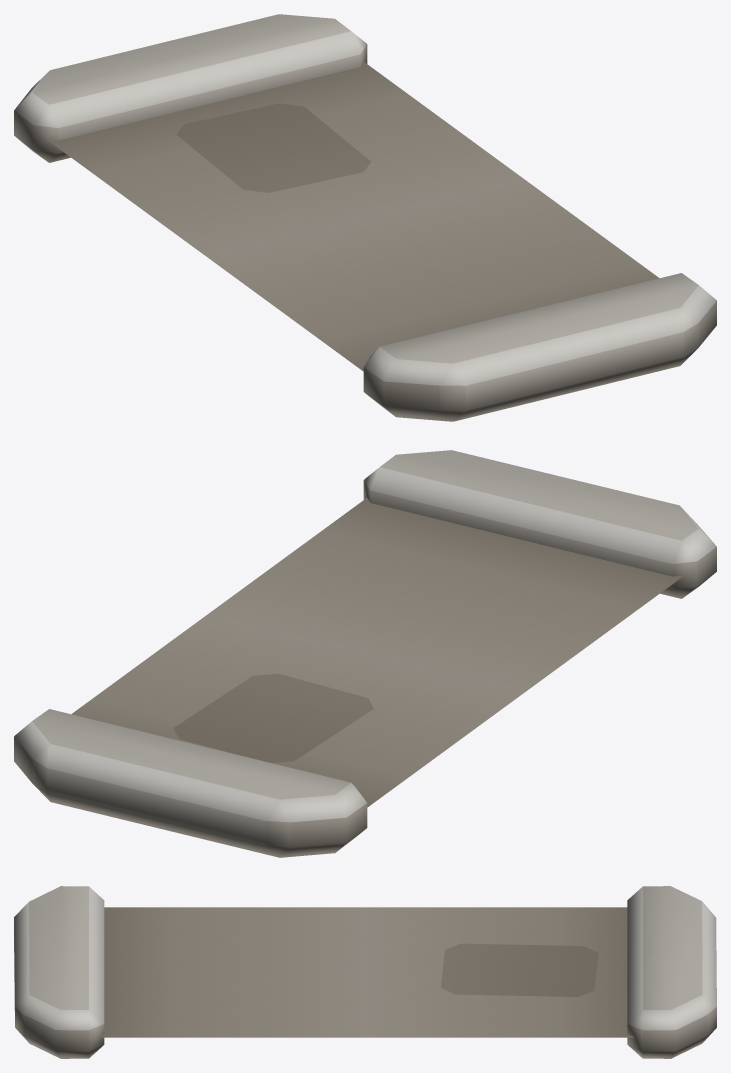
The model's file is path_park_tile_x1.fbx.
3 renders of one model, top to bottom at view 1: azimuth 30°, elevation 25°; view 2: azimuth 150°, elevation 25°; view 3: azimuth 270°, elevation 25°, orthographic. The views are drawn at different scales.
Visible parts, largest first — view 1: path_park_tile_x1; view 2: path_park_tile_x1; view 3: path_park_tile_x1.
Boxes of the visible parts, <box> form: path_park_tile_x1: <box>14,14,716,421</box>; path_park_tile_x1: <box>14,450,716,857</box>; path_park_tile_x1: <box>14,886,716,1058</box>.
Bounding box in the file's own units: 210 × 35 × 457.
